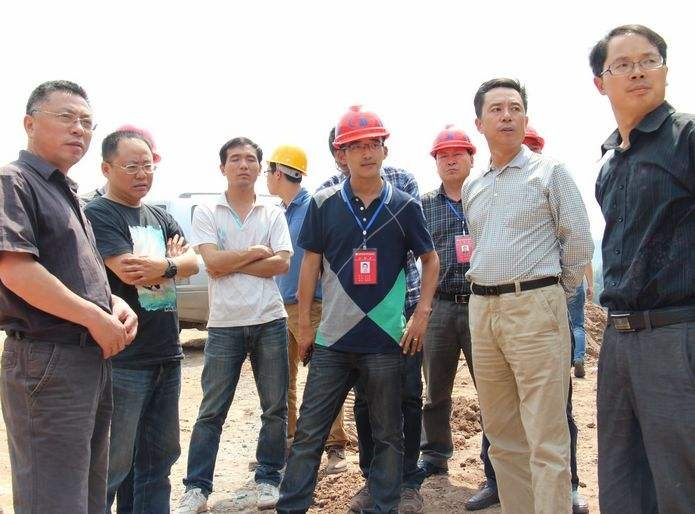none: (583, 21, 675, 126), (21, 75, 94, 170), (469, 72, 532, 153), (98, 128, 156, 203), (218, 135, 265, 193)
red: (331, 100, 390, 180), (427, 122, 476, 185)
yellow: (262, 142, 310, 203)
